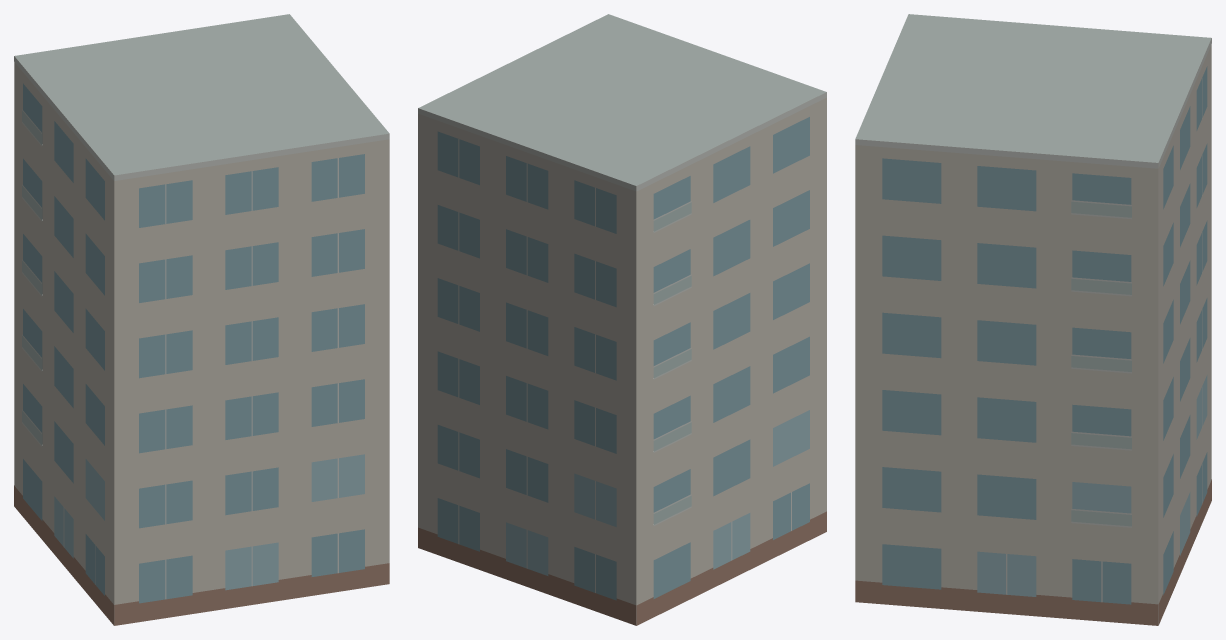
File: survey-upis-32851086.glb
3 views of the same model, side by side, from view 1: azimuth 30°, elevation 25°; view 2: azimuth 150°, elevation 25°; view 3: azimuth 270°, elevation 25° (orthographic). The views are drawn at different scales.
Parts seen in each view (by area): view 1: survey-upis-32851086.tmp; view 2: survey-upis-32851086.tmp; view 3: survey-upis-32851086.tmp.
Boxes of the visible parts, x1,y1,x2,y2 form: survey-upis-32851086.tmp: (14, 14, 389, 625); survey-upis-32851086.tmp: (418, 14, 826, 625); survey-upis-32851086.tmp: (855, 14, 1211, 625).
Bounding box in the file's own units: 13.47 × 19.5 × 13.62.
